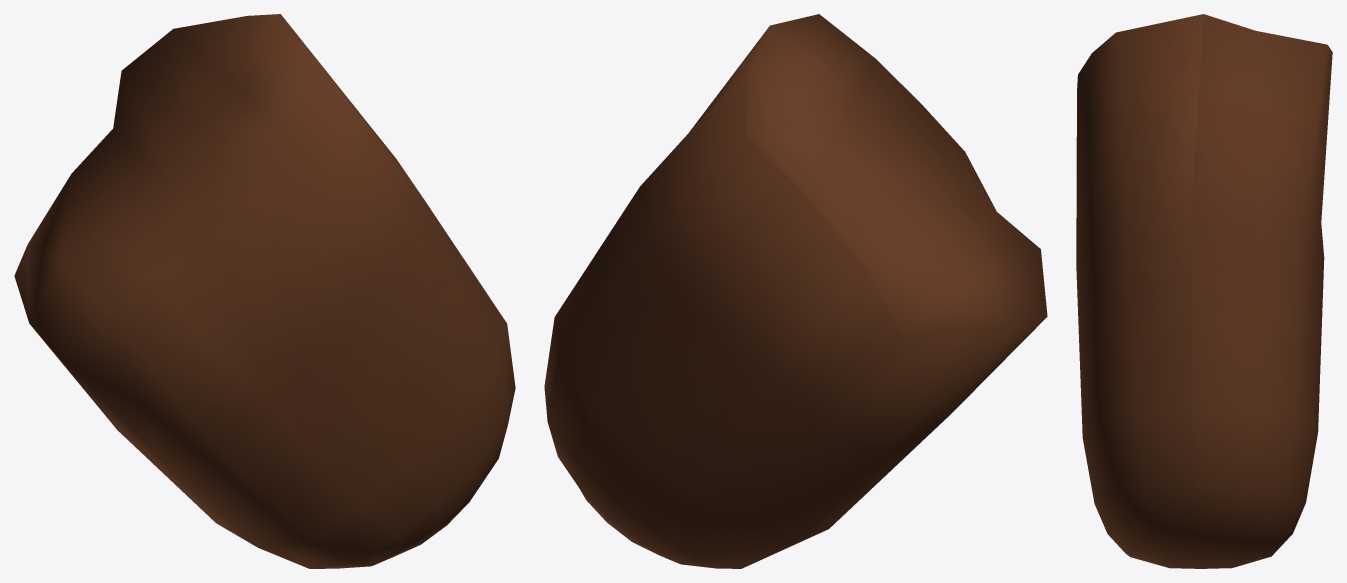
Rendered from gingerbread_hand.fbx.
The picture shows the model from 3 angles, left to right: view 1: azimuth 30°, elevation 25°; view 2: azimuth 150°, elevation 25°; view 3: azimuth 270°, elevation 25°; orthographic projection. The views are drawn at different scales.
Parts seen in each view (by area): view 1: part_hand; view 2: part_hand; view 3: part_hand.
Boxes of the visible parts, x1=… form: part_hand: x1=14, y1=14, x2=515, y2=568; part_hand: x1=544, y1=14, x2=1047, y2=568; part_hand: x1=1076, y1=14, x2=1332, y2=568.
Size of the model in its own units: 38.66 by 43.73 by 19.68.
Materials: 1 (1 with a texture image).
